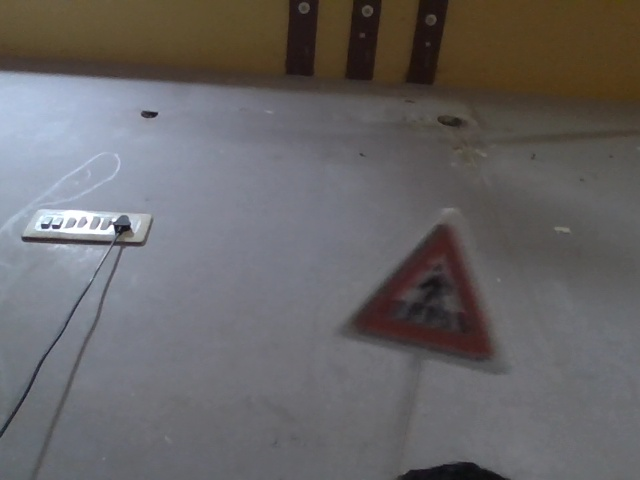crossing: (322, 204, 510, 377)
